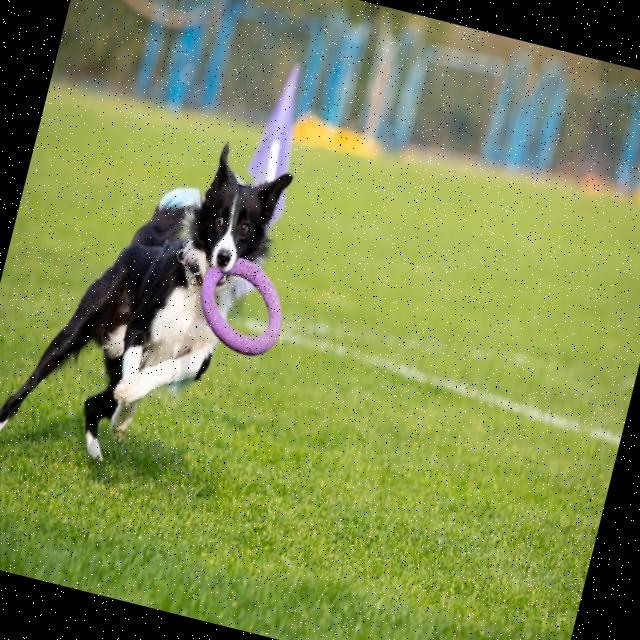Dog: (0, 99, 298, 513)
